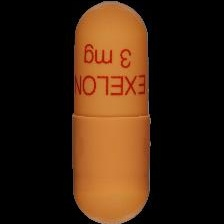54868-5839: (0, 0, 224, 224)
